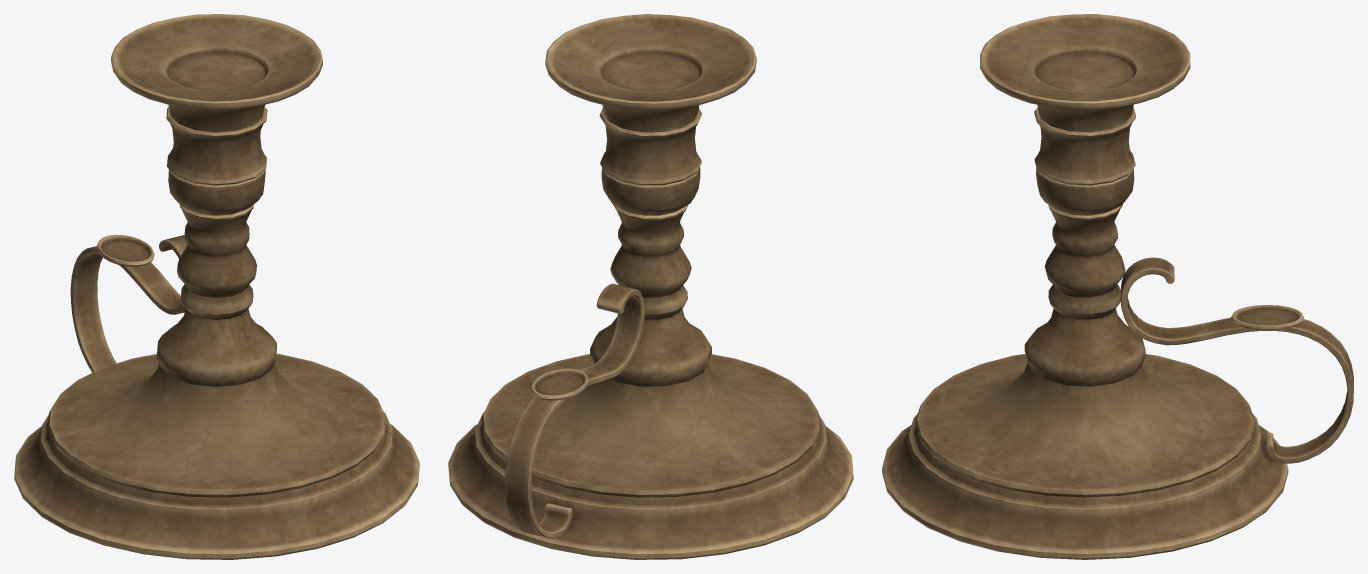
File: candlestick-chamber.glb
3 views of the same model, side by side, from view 1: azimuth 30°, elevation 25°; view 2: azimuth 150°, elevation 25°; view 3: azimuth 270°, elevation 25° (orthographic).
Parts seen in each view (by area): view 1: candlestick-chamber; view 2: candlestick-chamber; view 3: candlestick-chamber.
Boxes of the visible parts, x1=… form: candlestick-chamber: x1=14, y1=14, x2=419, y2=559; candlestick-chamber: x1=448, y1=14, x2=853, y2=559; candlestick-chamber: x1=882, y1=14, x2=1353, y2=559.
Size of the model in its own units: 0.1213 by 0.1374 by 0.1409.
Materials: 1 (1 with a texture image).
